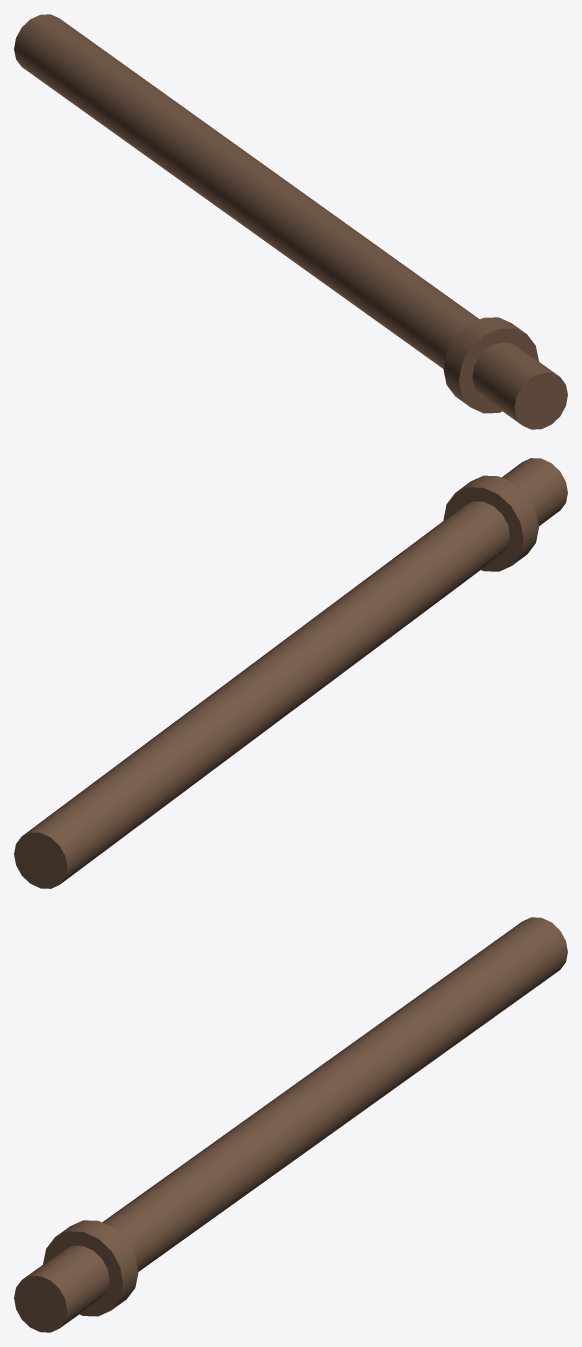
Rendered from bastao.fbx.
3 views of the same model, one above another, from view 1: azimuth 30°, elevation 25°; view 2: azimuth 150°, elevation 25°; view 3: azimuth 330°, elevation 25° (orthographic).
Visible parts, largest first — view 1: part; view 2: part; view 3: part.
Part boxes in pixels (<box>): part: <box>14,14,567,429</box>; part: <box>14,458,567,888</box>; part: <box>14,917,567,1332</box>.
Size of the model in its own units: 480 by 482 by 5203.
